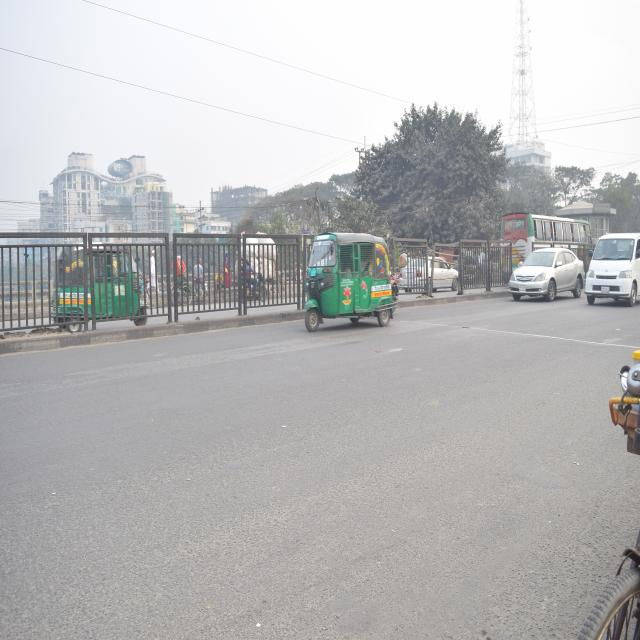car: (496, 241, 583, 311), (579, 218, 640, 311)
